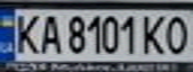0: (103, 12, 121, 54)
1: (118, 12, 139, 55), (84, 12, 103, 54)
8: (63, 12, 87, 54)
A: (36, 11, 63, 54)
K: (139, 11, 172, 56), (9, 10, 42, 55)
O: (160, 12, 193, 55)
